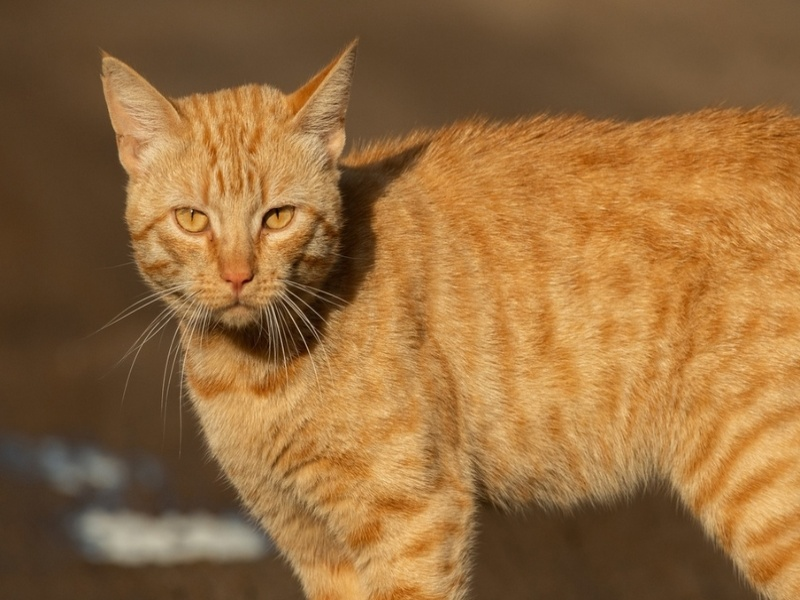cat: (94, 33, 794, 591)
